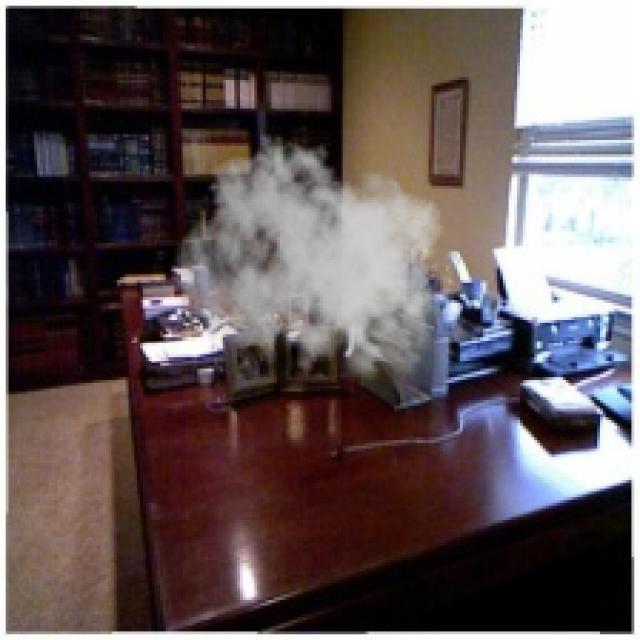Smoke: (175, 134, 452, 394)
